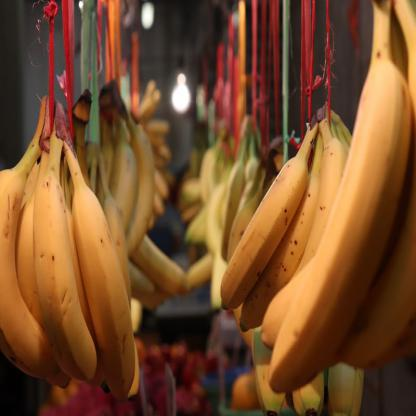banana: (31, 135, 148, 407)
